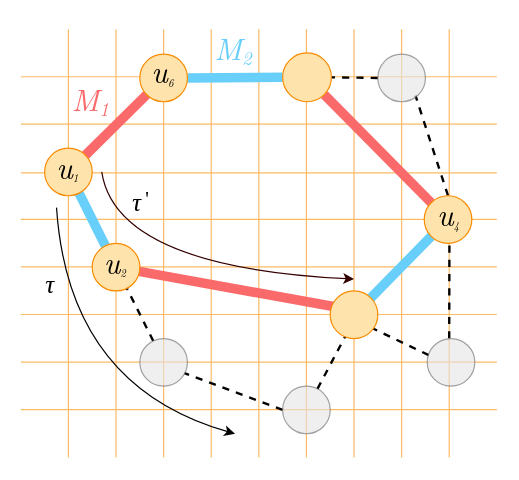
The diagram is 519 pixels wide and 480 high, and some of its shapes have lost their labels. Here are the shapes that lost their labels. From the top down, the box of each, then its label:
(281, 52, 331, 102): u 5
(329, 290, 378, 339): u 3
